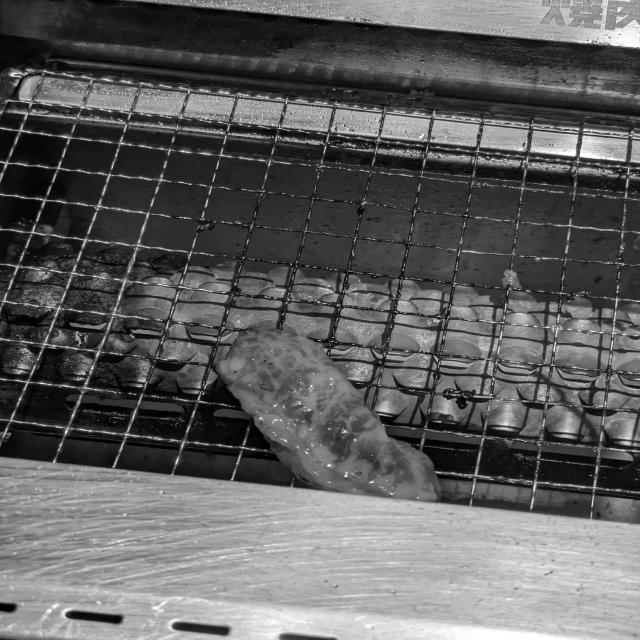NG raw beef,: (202, 295, 455, 505)
